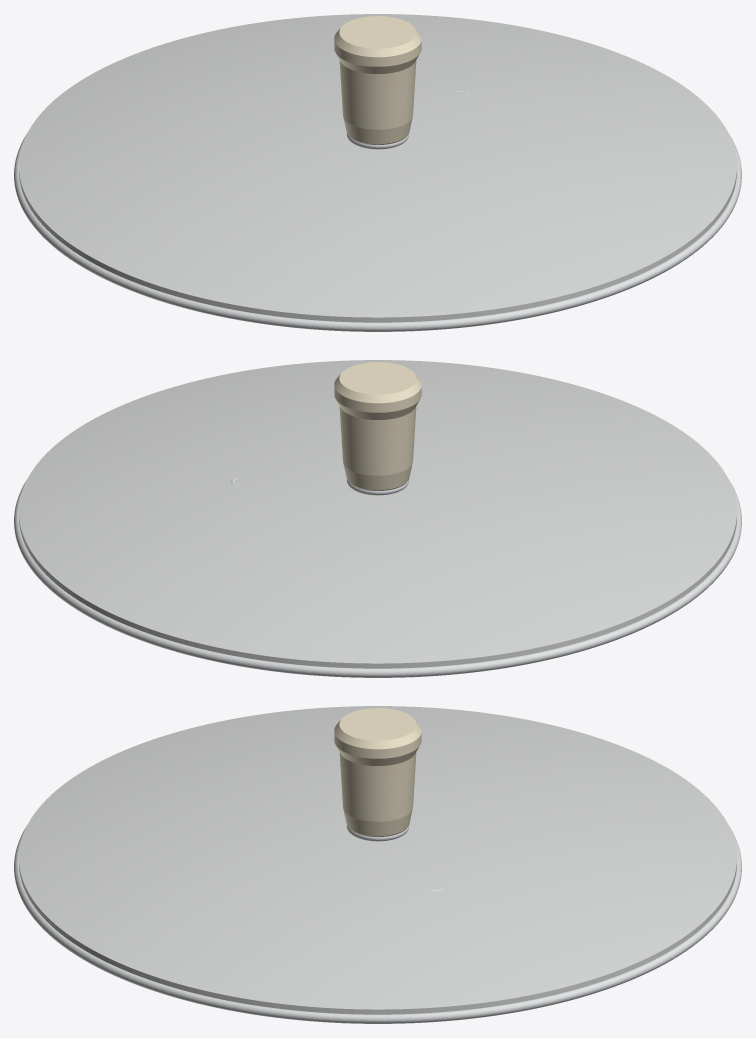
The model's file is lid.glb.
The picture shows the model from 3 angles, top to bottom: view 1: azimuth 30°, elevation 25°; view 2: azimuth 150°, elevation 25°; view 3: azimuth 270°, elevation 25°; orthographic projection.
Parts seen in each view (by area): view 1: GlassDome_glass, Knob_knob, MetalRim_steel; view 2: GlassDome_glass, Knob_knob, MetalRim_steel; view 3: GlassDome_glass, Knob_knob, MetalRim_steel.
Boxes of the visible parts, x1,y1,x2,y2 form: GlassDome_glass: (19,14,736,322); Knob_knob: (334,16,421,144); MetalRim_steel: (14,134,741,331); GlassDome_glass: (19,360,736,668); Knob_knob: (334,362,421,490); MetalRim_steel: (14,480,741,677); GlassDome_glass: (19,706,736,1014); Knob_knob: (334,708,421,836); MetalRim_steel: (14,826,741,1023).
Bounding box in the file's own units: 0.2078 × 0.0464 × 0.2078.
